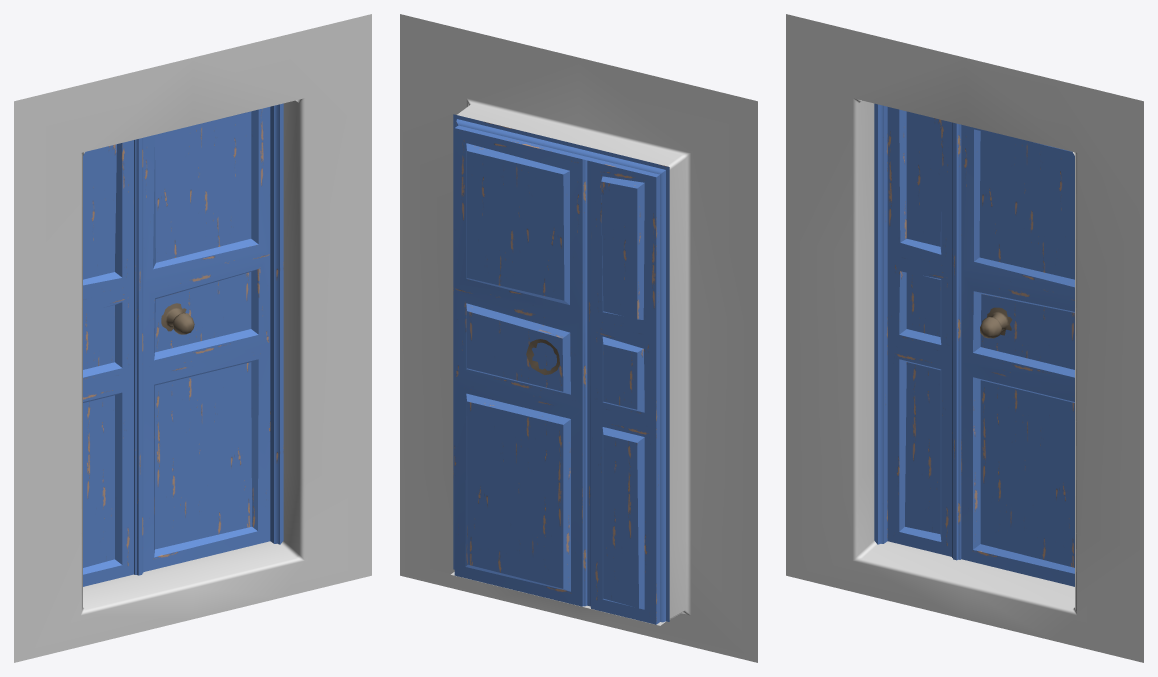
File: WallDoubleDoor.fbx
3 renders of one model, left to right at view 1: azimuth 30°, elevation 25°; view 2: azimuth 150°, elevation 25°; view 3: azimuth 330°, elevation 25°, orthographic.
Visible parts, largest first — view 1: WallDoubleDoor; view 2: WallDoubleDoor; view 3: WallDoubleDoor.
Boxes of the visible parts, box(x1,y1,x2,y2) form: WallDoubleDoor: box(14, 14, 371, 662); WallDoubleDoor: box(400, 14, 757, 662); WallDoubleDoor: box(786, 14, 1143, 662).
Bounding box in the file's own units: 200 × 300 × 26.74.
3 materials, 1 textured.
